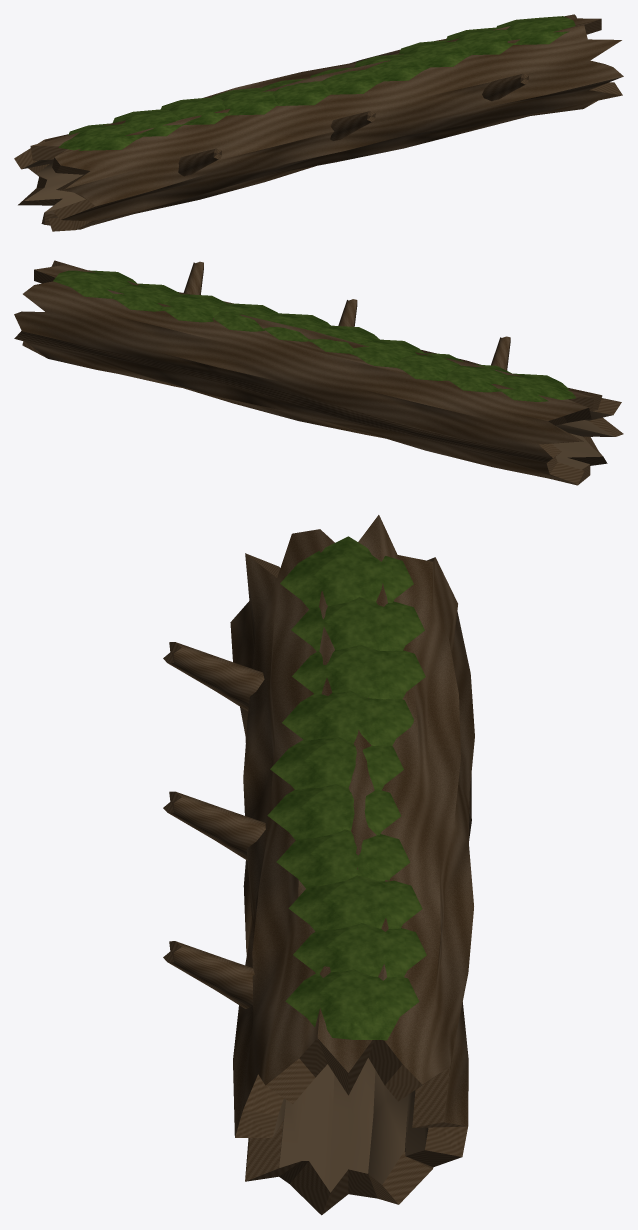
File: SS_Log_Decayed_01_LOD0.fbx
3 renders of one model, top to bottom at view 1: azimuth 30°, elevation 25°; view 2: azimuth 150°, elevation 25°; view 3: azimuth 270°, elevation 25°, orthographic. The views are drawn at different scales.
Parts seen in each view (by area): view 1: SS_Log_Decayed_01_LOD0_Mesh; view 2: SS_Log_Decayed_01_LOD0_Mesh; view 3: SS_Log_Decayed_01_LOD0_Mesh.
Part boxes in pixels (left/top/right/bottom): SS_Log_Decayed_01_LOD0_Mesh: left=14, top=14, right=623, bottom=231; SS_Log_Decayed_01_LOD0_Mesh: left=14, top=260, right=623, bottom=485; SS_Log_Decayed_01_LOD0_Mesh: left=163, top=515, right=474, bottom=1215.
Size of the model in its own units: 300 by 43.21 by 71.62.
